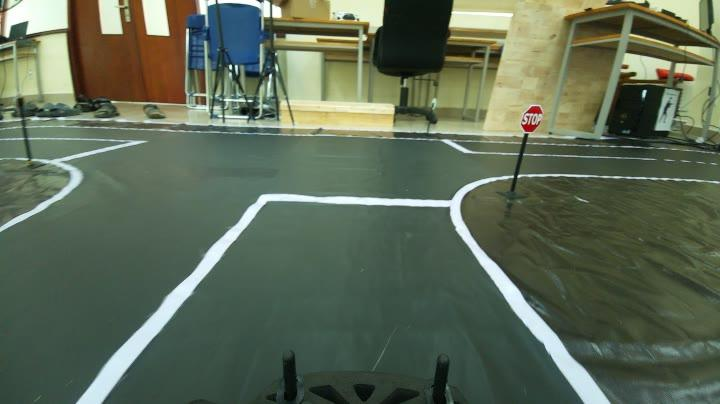stop: (518, 100, 549, 138)
